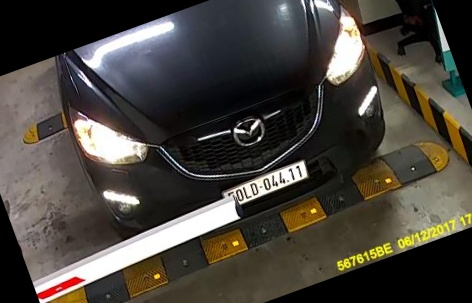plate: (208, 159, 331, 217)
